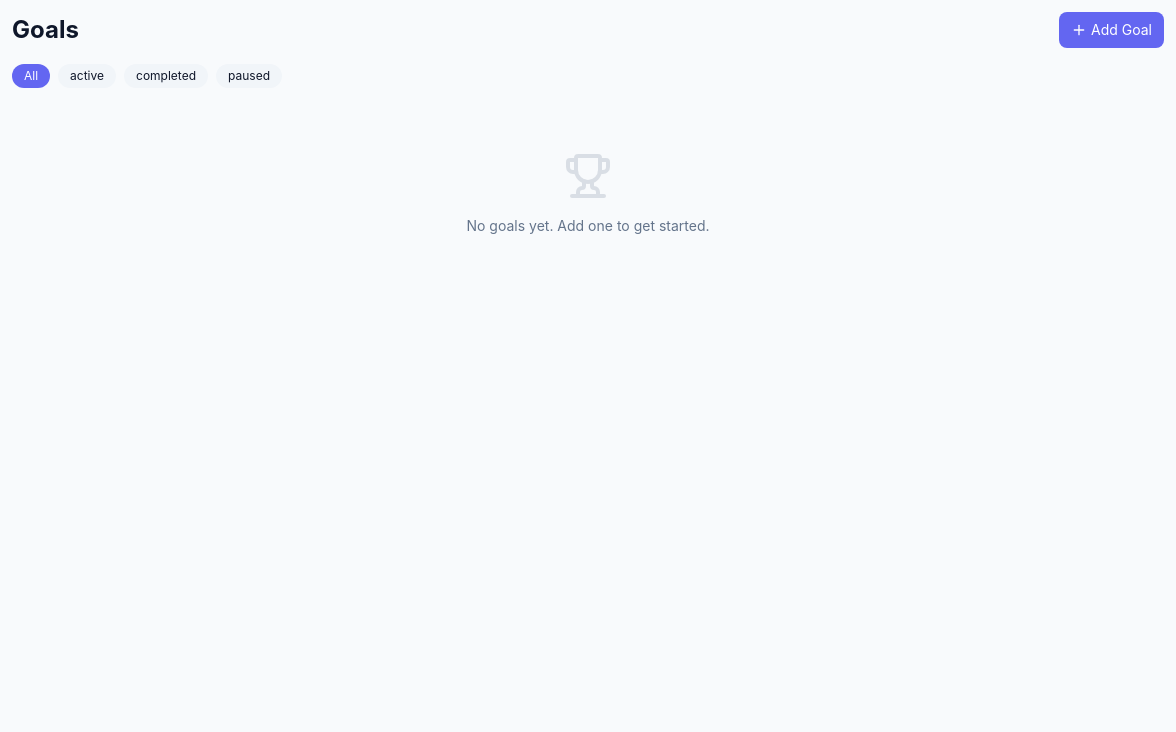
Scenario: Goals › shows form when Add Goal clicked
This screenshot has width=1176, height=732.
Click the button "Add Goal": click(1112, 30) [1059,12,1164,48]
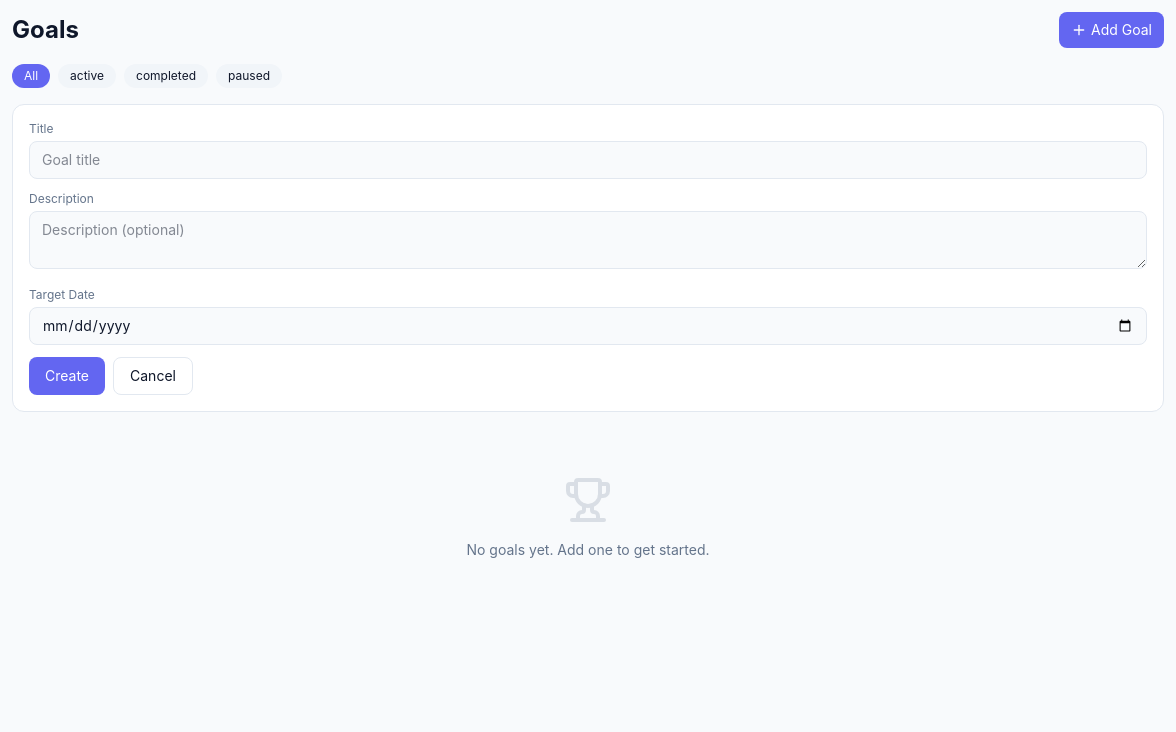
expect the field with placeholder "Goal title" is shown: met, box [29,141,1147,179]
expect the button "Create" is shown: met, box [29,357,105,395]
